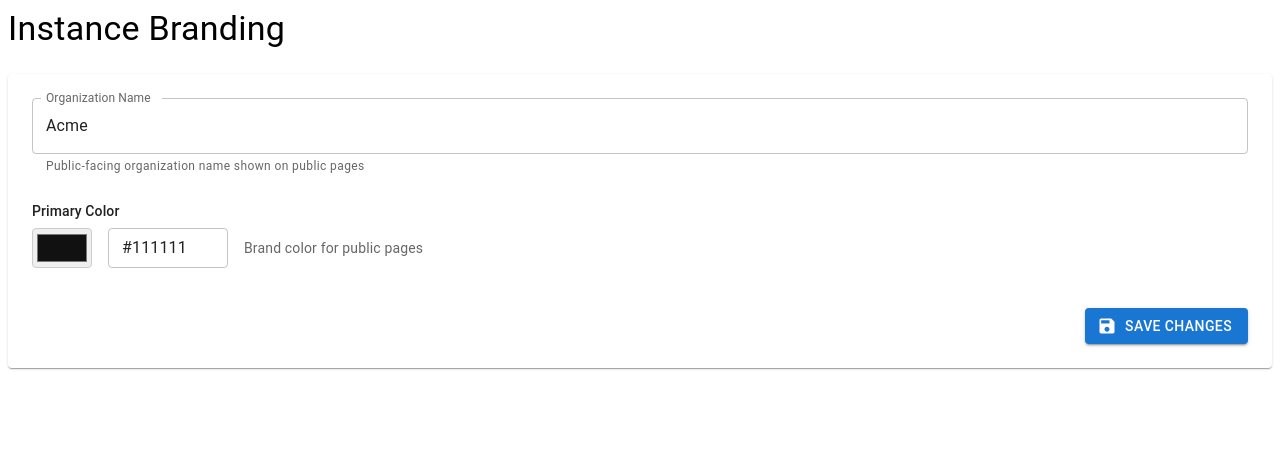
Test: OrganizationBranding — save › saves successfully and shows the success alert
The width and height of the screenshot is (1280, 459).
Expected: the field labelled "Organization Name" holds "Acme", [32,98,1248,154]
Click the button "Save Changes": (1167, 326) [1085,308,1248,344]
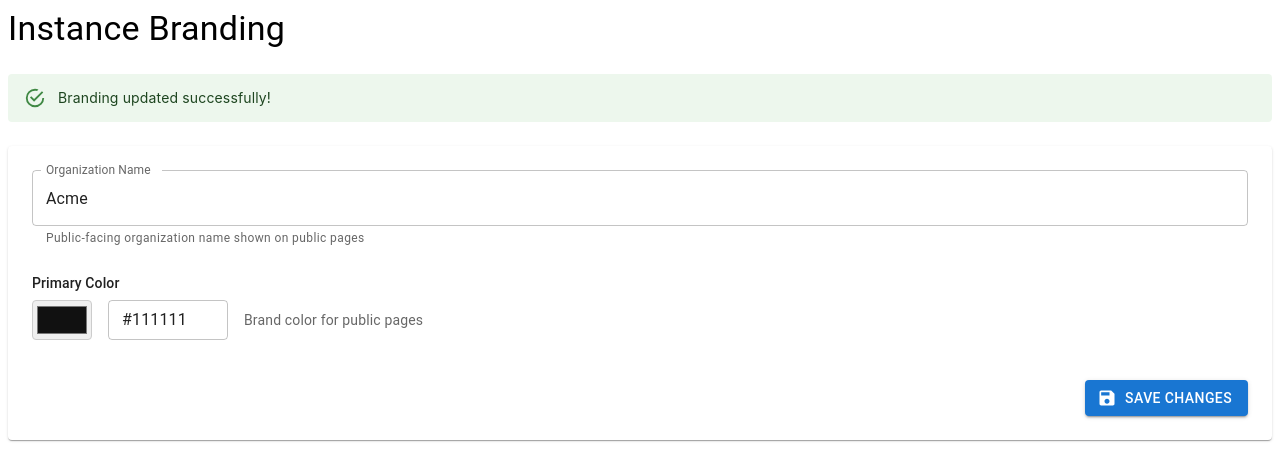
Now the text "Branding updated successfully!" is shown, box [58,89,271,106]
